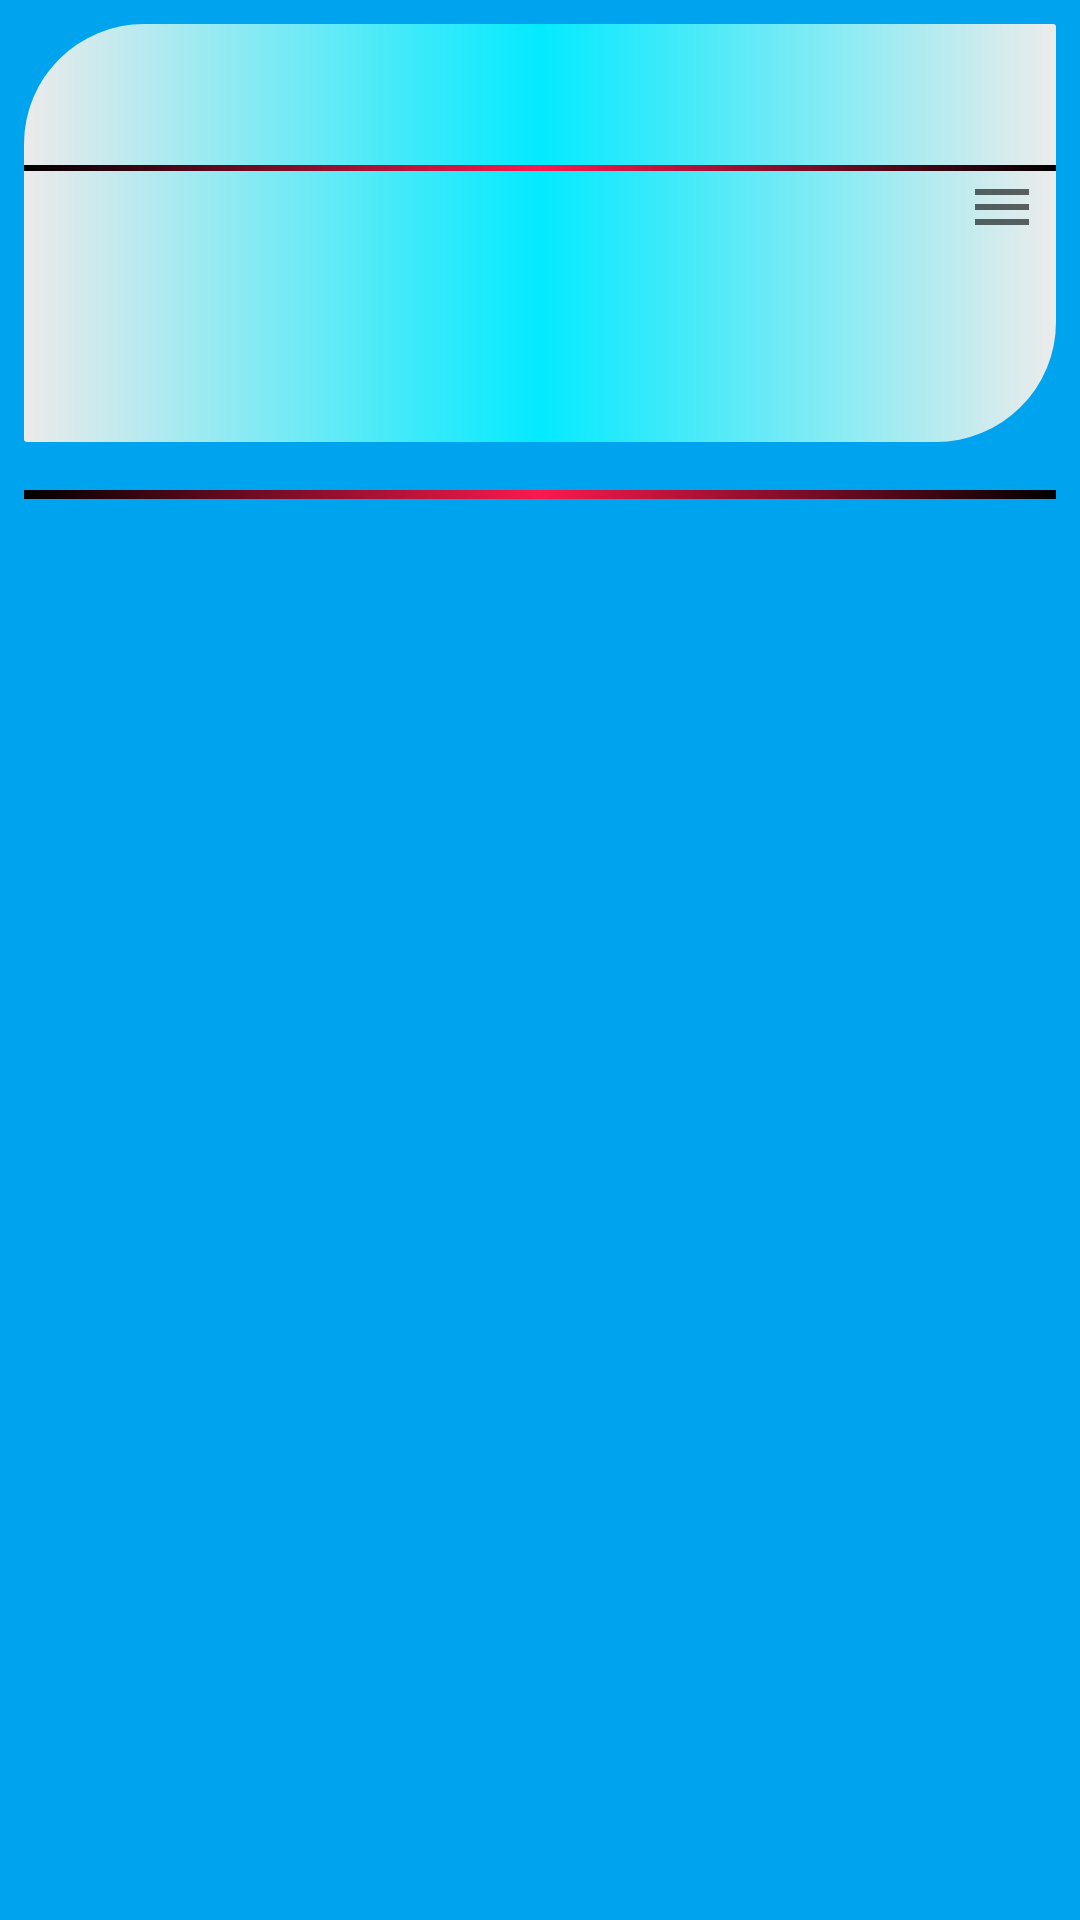

Screen size 1080 × 1920. Icon name, then its center in pixels as (x=x, y=y):
menu: (x=1011, y=216)
